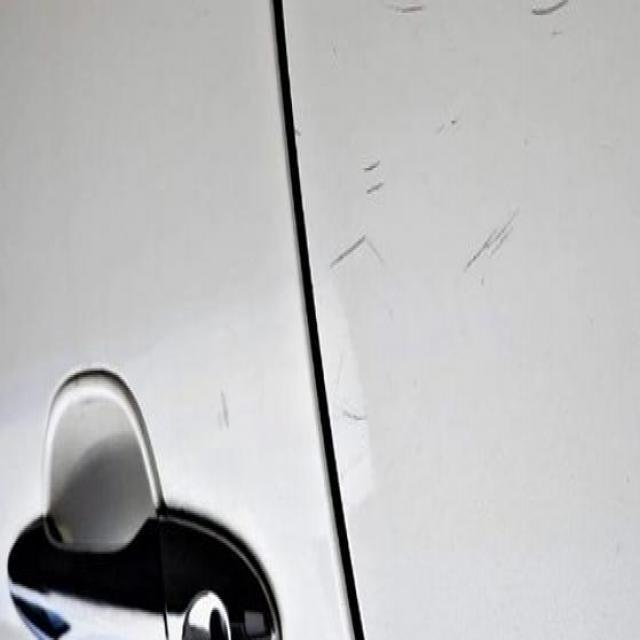scratch: (325, 148, 383, 282), (456, 188, 532, 284), (518, 0, 572, 30)
